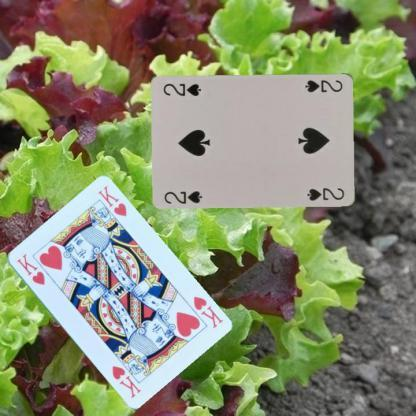2s: (302, 76, 344, 94), (162, 188, 204, 205)
Kh: (190, 293, 224, 330), (13, 250, 46, 286)
